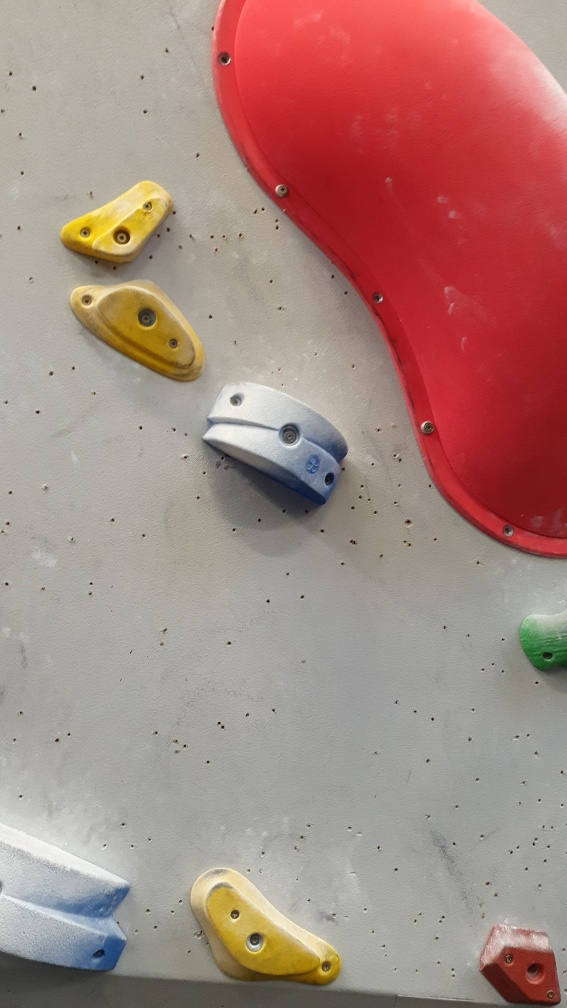Crimp: (203, 877, 326, 990), (87, 280, 202, 376), (480, 924, 560, 1003), (96, 191, 178, 267)
Pinch: (1, 812, 139, 976), (206, 376, 363, 504)
